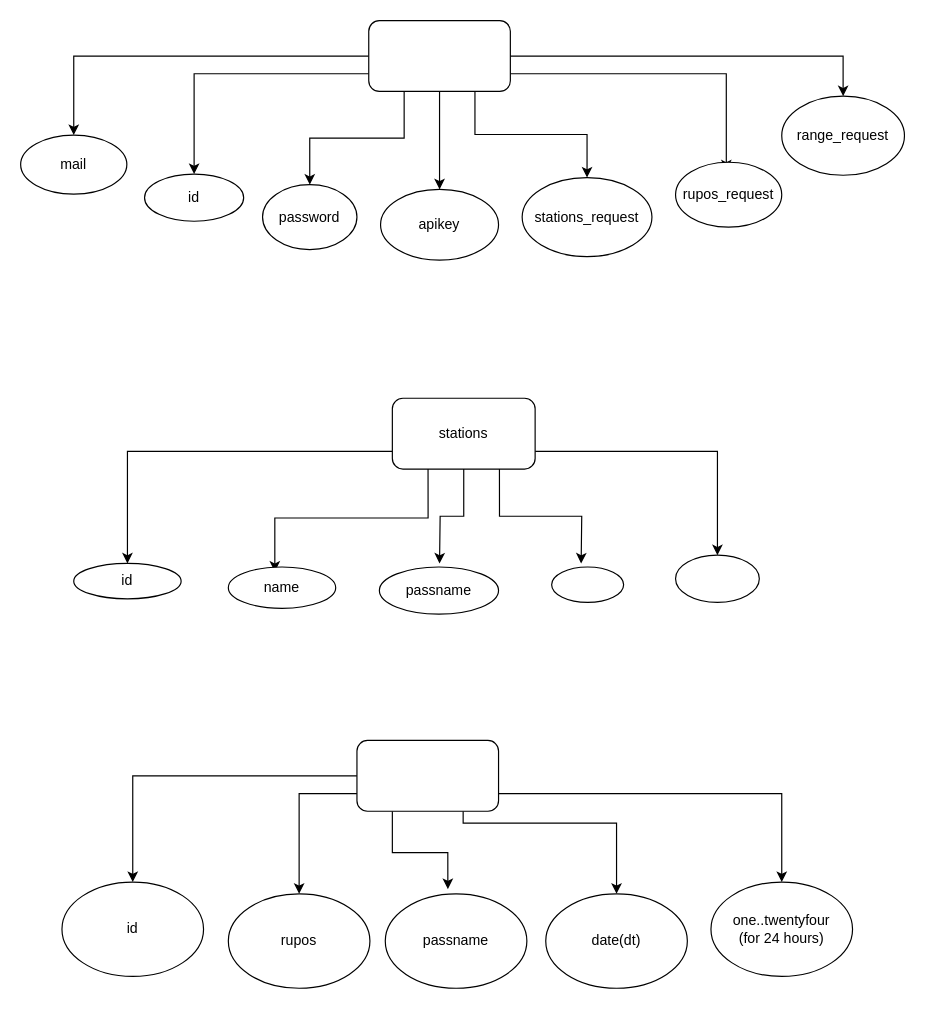
Some shapes in this 925 by 1009 pixel diagram are drawn without their labels. Each missing label, with the centre of its shape:
"lat" goes at (587,584).
"long" goes at (716,578).
"measurements" goes at (427,775).
"users" goes at (439,55).
